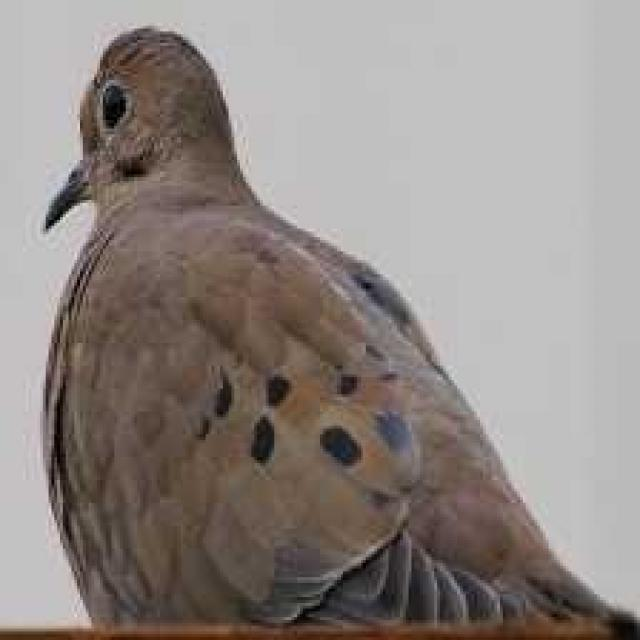bird: (28, 20, 632, 630)
